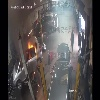fire: (26, 44, 38, 65)
